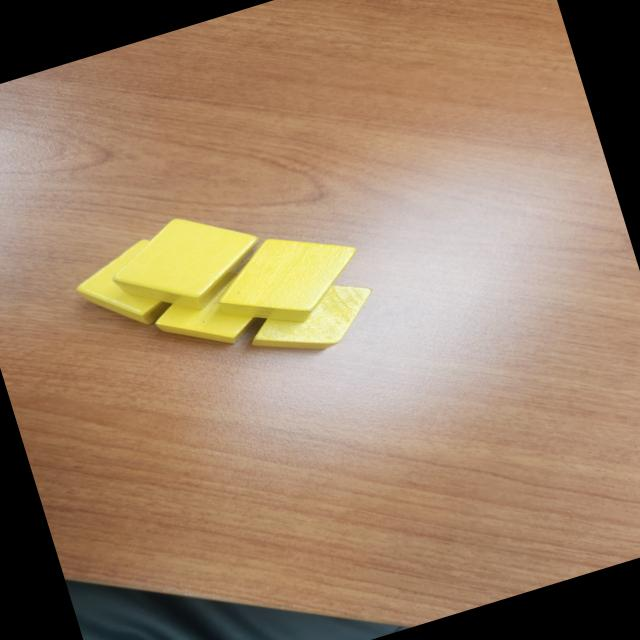yellow: (100, 195, 279, 332), (200, 212, 376, 346), (64, 222, 212, 342), (144, 262, 290, 366), (237, 272, 384, 371)
